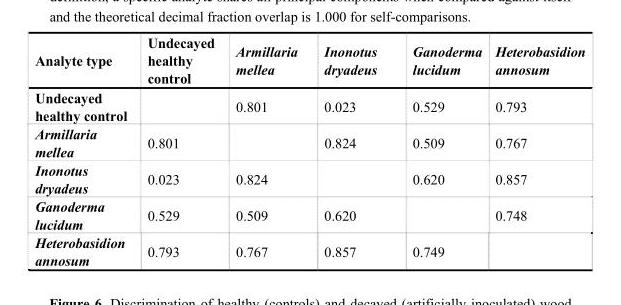table: (34, 34, 584, 267)
table column: (34, 34, 136, 267), (487, 34, 584, 267), (394, 34, 487, 267), (136, 34, 224, 267), (224, 34, 310, 267), (310, 34, 394, 267)
table column header: (34, 34, 584, 87)
table row: (34, 34, 584, 87), (34, 87, 584, 124), (34, 196, 584, 233), (34, 124, 584, 160), (34, 160, 584, 196), (34, 233, 584, 267)
